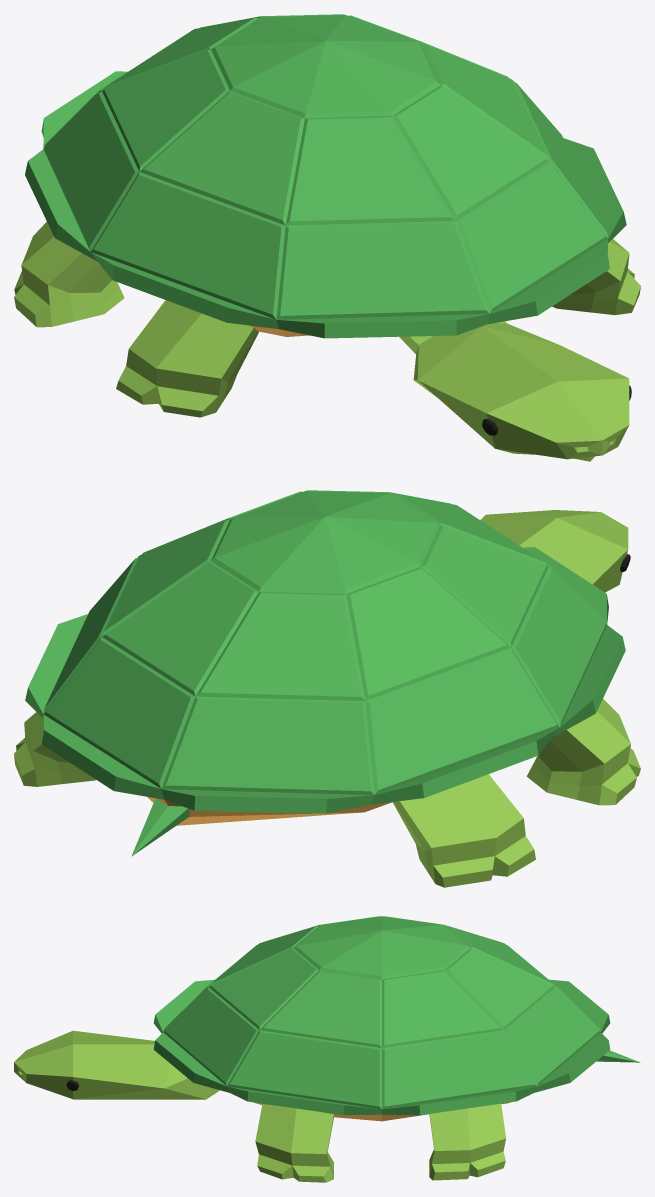
Rendered from Turtle_01.gltf.
The picture shows the model from 3 angles, top to bottom: view 1: azimuth 30°, elevation 25°; view 2: azimuth 150°, elevation 25°; view 3: azimuth 270°, elevation 25°; orthographic projection. The views are drawn at different scales.
Visible parts, largest first — view 1: node-0; view 2: node-0; view 3: node-0.
Part boxes in pixels (x1=…): node-0: x1=14, y1=14, x2=640, y2=461; node-0: x1=14, y1=490, x2=640, y2=887; node-0: x1=14, y1=916, x2=640, y2=1182.
Bounding box in the file's own units: 8.94 × 4.4 × 14.6.
